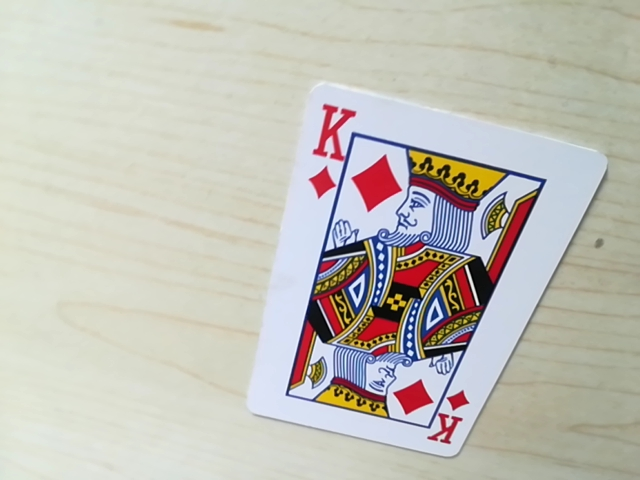fk k: (299, 92, 367, 203), (419, 396, 469, 451)
